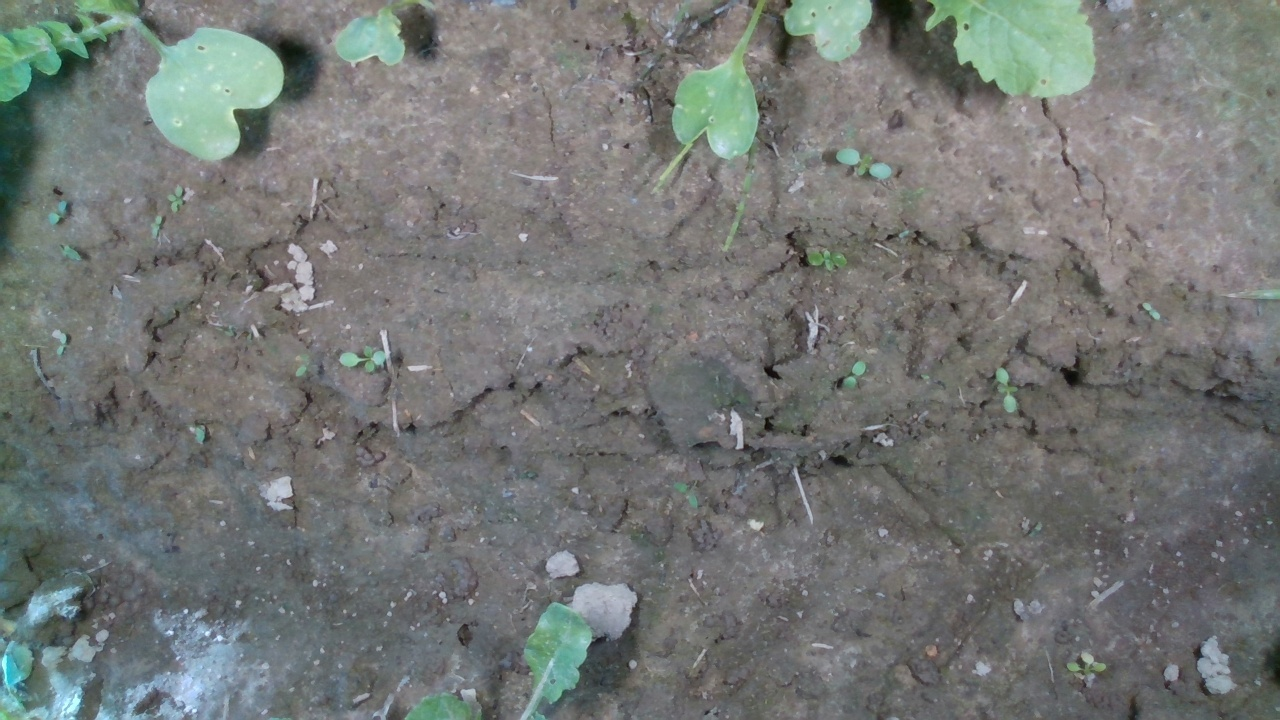weed: (835, 145, 893, 184), (336, 343, 388, 374), (993, 364, 1019, 415), (839, 357, 868, 397), (805, 245, 849, 271), (672, 481, 700, 512), (165, 181, 186, 214), (1139, 297, 1165, 323), (46, 199, 69, 228), (147, 211, 162, 240), (54, 330, 68, 356)
